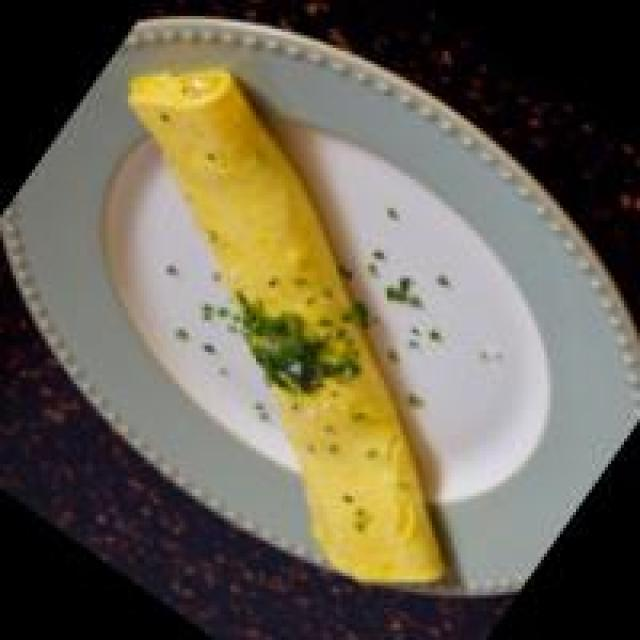telur_ayam_dadar: (128, 67, 454, 592)
